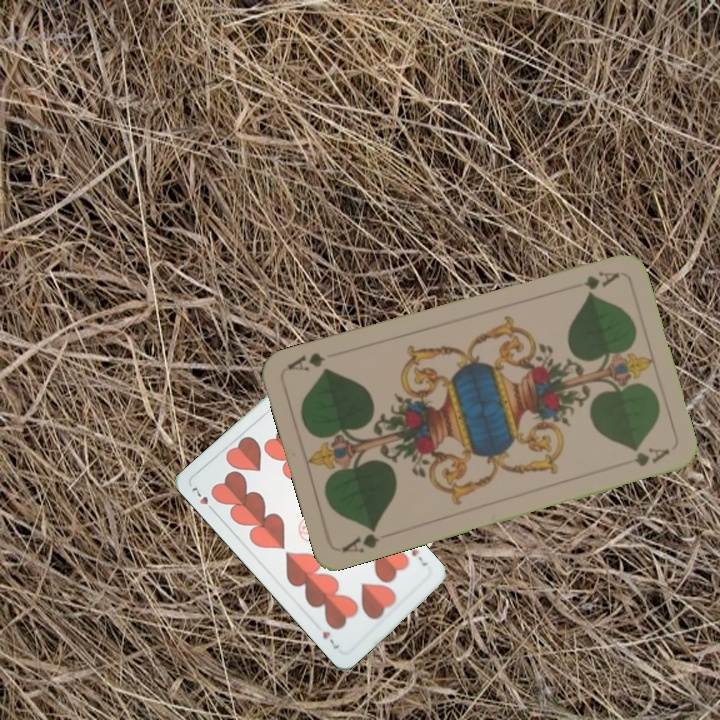GA: (338, 522, 382, 556), (580, 266, 622, 294)
H7: (187, 483, 218, 516), (407, 545, 430, 568)
